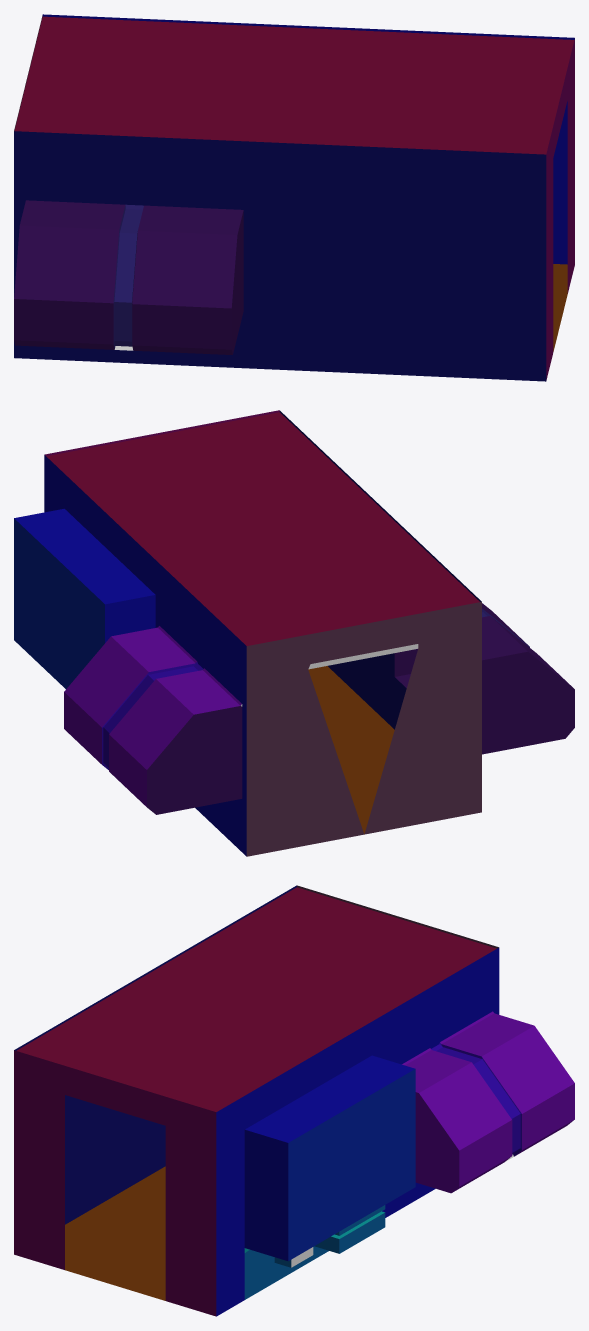
The model's file is Structure.fbx.
The picture shows the model from 3 angles, top to bottom: view 1: azimuth 30°, elevation 25°; view 2: azimuth 150°, elevation 25°; view 3: azimuth 270°, elevation 25°; orthographic projection. The views are drawn at different scales.
Parts seen in each view (by area): view 1: Habitacion1; view 2: Habitacion1; view 3: Habitacion1.
Boxes of the visible parts, box(x1,y1,x2,y2) form: Habitacion1: box(14, 14, 574, 381); Habitacion1: box(14, 410, 574, 856); Habitacion1: box(14, 885, 574, 1316).
Size of the model in its own units: 813 by 311 by 774.
